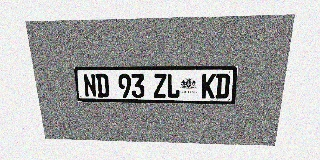3: (131, 74, 145, 98)
9: (118, 74, 132, 98)
D: (215, 74, 230, 99), (95, 74, 110, 97)
K: (201, 74, 216, 98)
L: (167, 74, 180, 98)
N: (83, 74, 97, 97)
Z: (153, 74, 166, 98)
